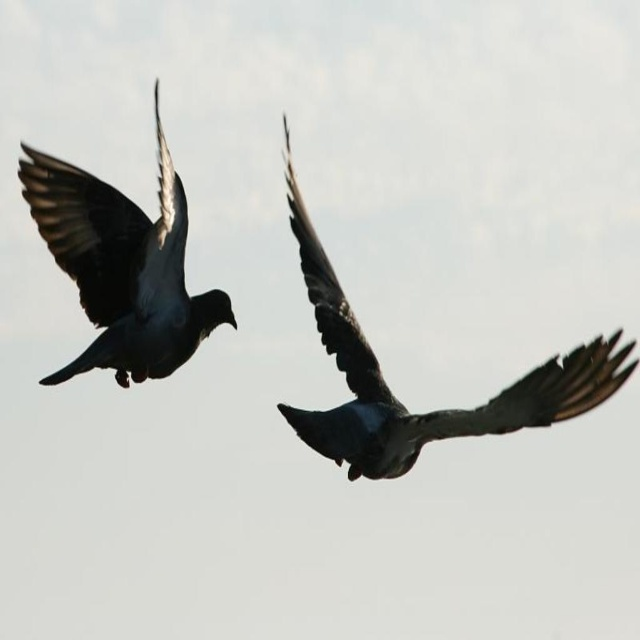Eagle: (274, 104, 639, 488), (15, 73, 246, 394)
